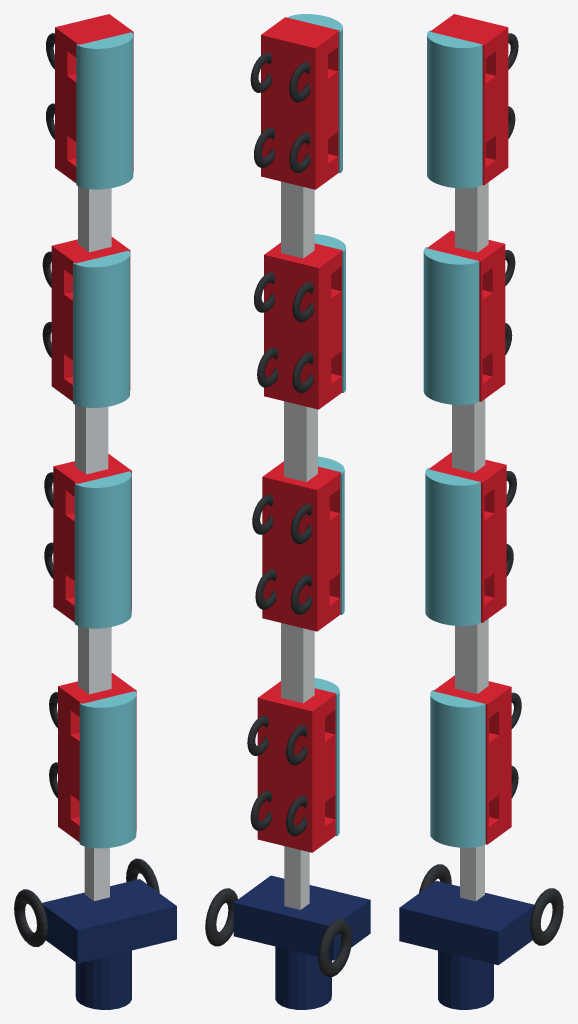
Rendered from tinker.obj.
3 views of the same model, side by side, from view 1: azimuth 30°, elevation 25°; view 2: azimuth 150°, elevation 25°; view 3: azimuth 330°, elevation 25° (orthographic).
Parts seen in each view (by area): view 1: group_0_7720667, group_0_15277357, group_0_1650274, group_0_14541540, group_0_2829873; view 2: group_0_15277357, group_0_2829873, group_0_1650274, group_0_14541540, group_0_7720667; view 3: group_0_7720667, group_0_15277357, group_0_1650274, group_0_14541540, group_0_2829873.
Boxes of the visible parts, <box> form: group_0_7720667: <box>73,32,136,848</box>; group_0_15277357: <box>51,14,136,842</box>; group_0_1650274: <box>42,879,176,1009</box>; group_0_14541540: <box>75,186,111,900</box>; group_0_2829873: <box>14,33,159,946</box>; group_0_15277357: <box>257,17,342,852</box>; group_0_2829873: <box>205,52,351,977</box>; group_0_1650274: <box>233,875,370,1009</box>; group_0_14541540: <box>281,181,317,909</box>; group_0_7720667: <box>287,14,345,836</box>; group_0_7720667: <box>423,30,485,847</box>; group_0_15277357: <box>427,14,511,844</box>; group_0_1650274: <box>399,881,533,1009</box>; group_0_14541540: <box>452,182,488,901</box>; group_0_2829873: <box>419,33,563,945</box>.
Bounding box in the file's own units: 37.5 × 288 × 30.5.
